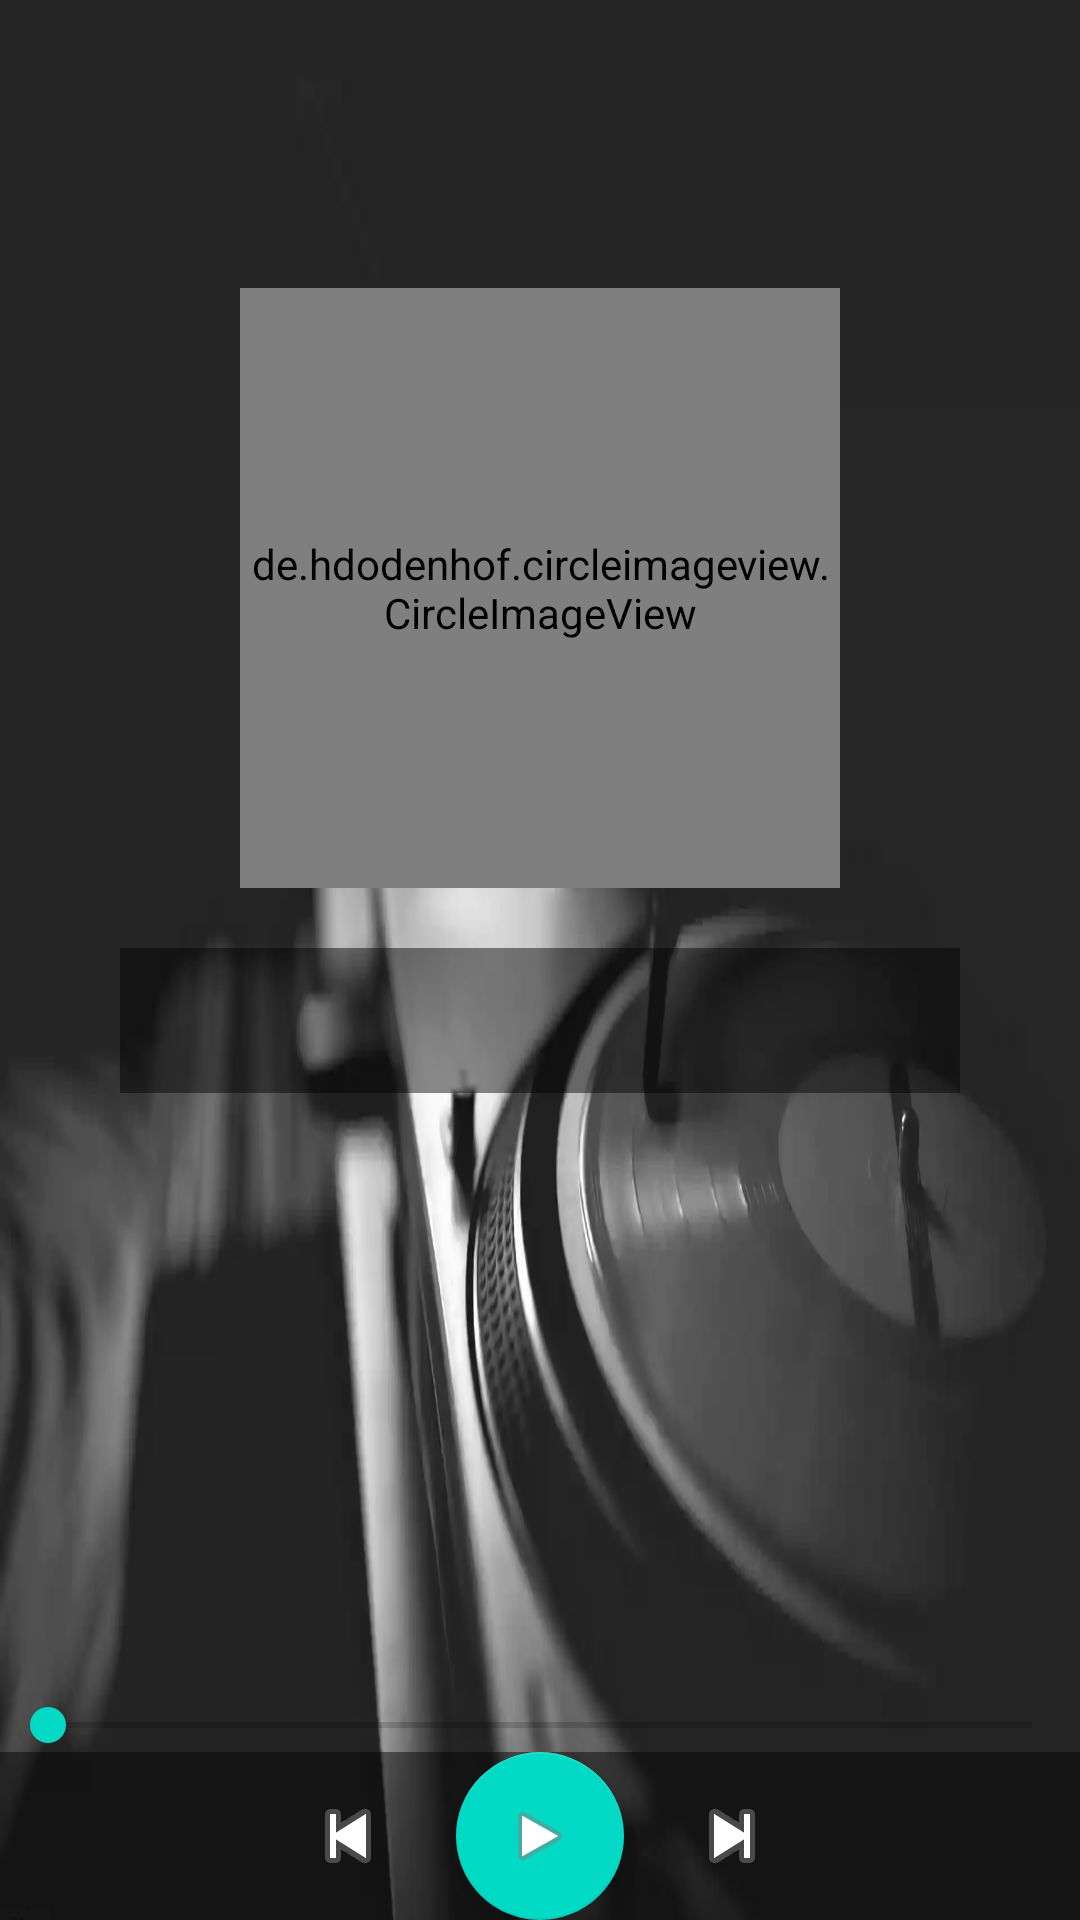

Named icons in this screenshot (1080w x 1920h) and their centers, (x,y):
next: (732,1836)
play: (540,1836)
previous: (348,1836)
